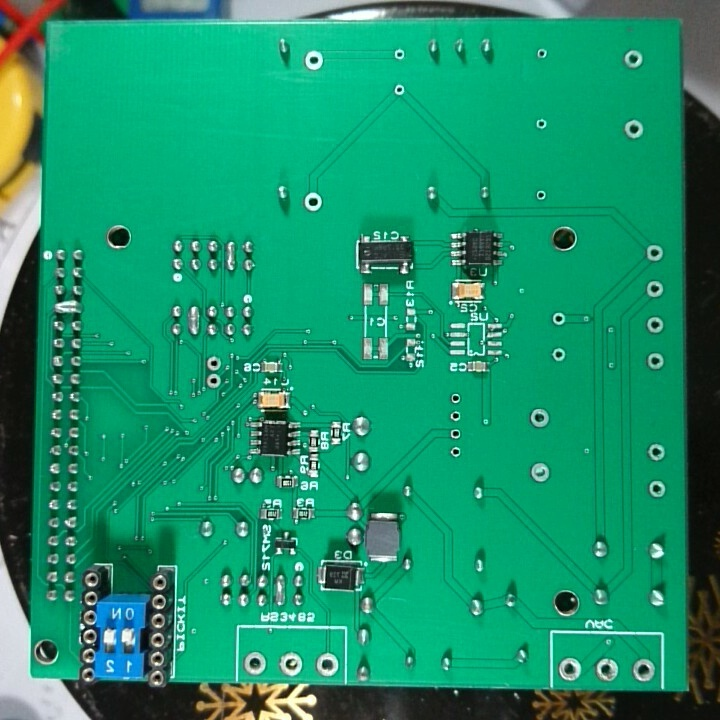F: (314, 647, 343, 680), (241, 646, 270, 678), (594, 655, 624, 685), (556, 655, 588, 683), (276, 648, 308, 675), (631, 654, 658, 685), (621, 115, 647, 146), (622, 48, 649, 72), (528, 459, 553, 483), (645, 440, 667, 466), (644, 241, 667, 265), (527, 406, 551, 429), (646, 478, 668, 503), (301, 191, 325, 213), (303, 49, 326, 71), (644, 314, 667, 335), (644, 279, 666, 300), (549, 343, 569, 364), (447, 422, 467, 443), (203, 372, 224, 391), (647, 349, 665, 370), (204, 353, 223, 372), (534, 45, 552, 65), (390, 46, 409, 64), (550, 310, 568, 328), (447, 442, 465, 460), (534, 188, 551, 206), (534, 115, 550, 132), (448, 389, 464, 406), (448, 409, 464, 426), (392, 80, 407, 98)
P: (222, 239, 239, 273), (273, 569, 287, 609), (51, 298, 82, 315), (187, 303, 201, 339)
